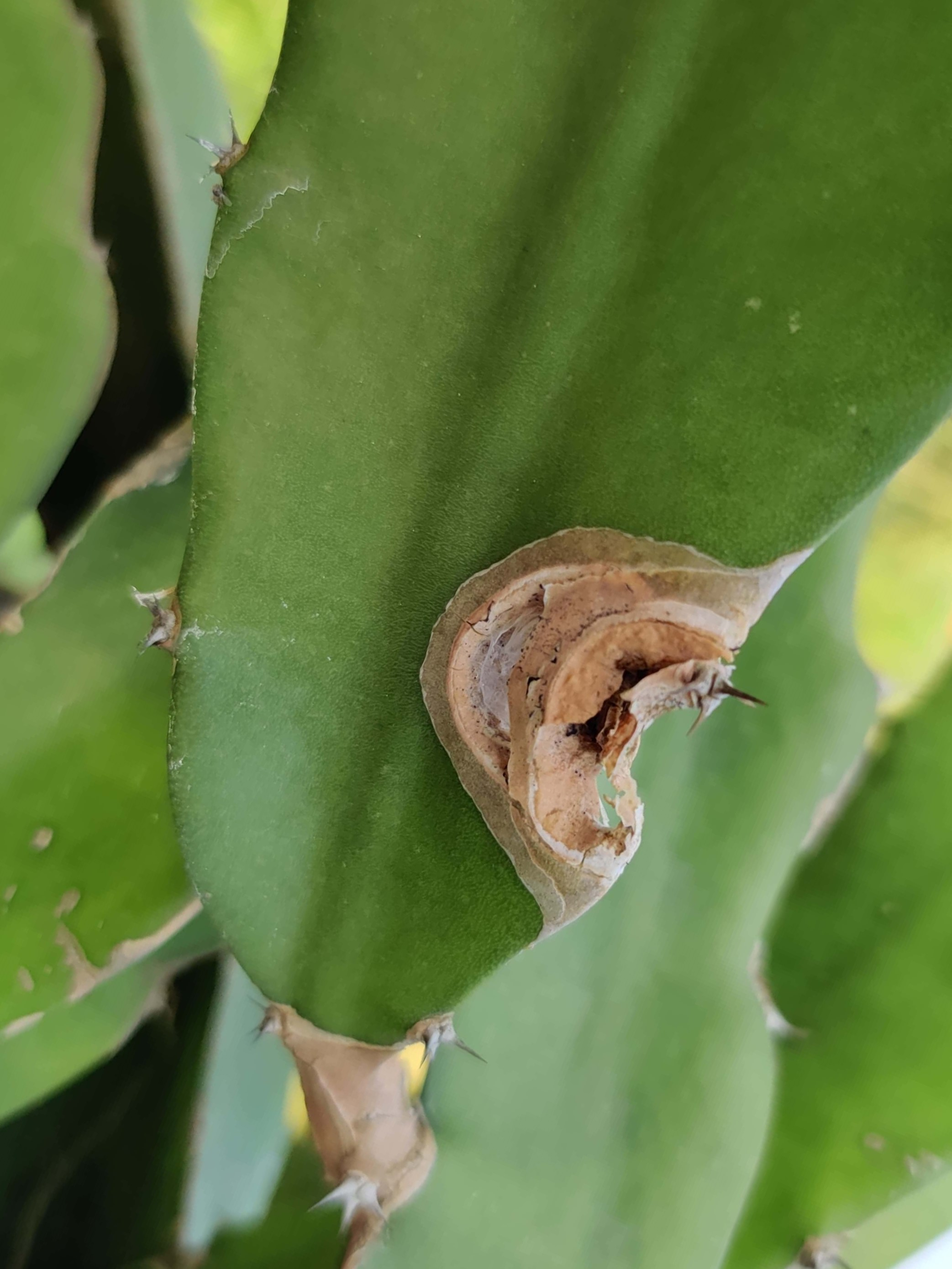stemcanker: (419, 500, 807, 925)
